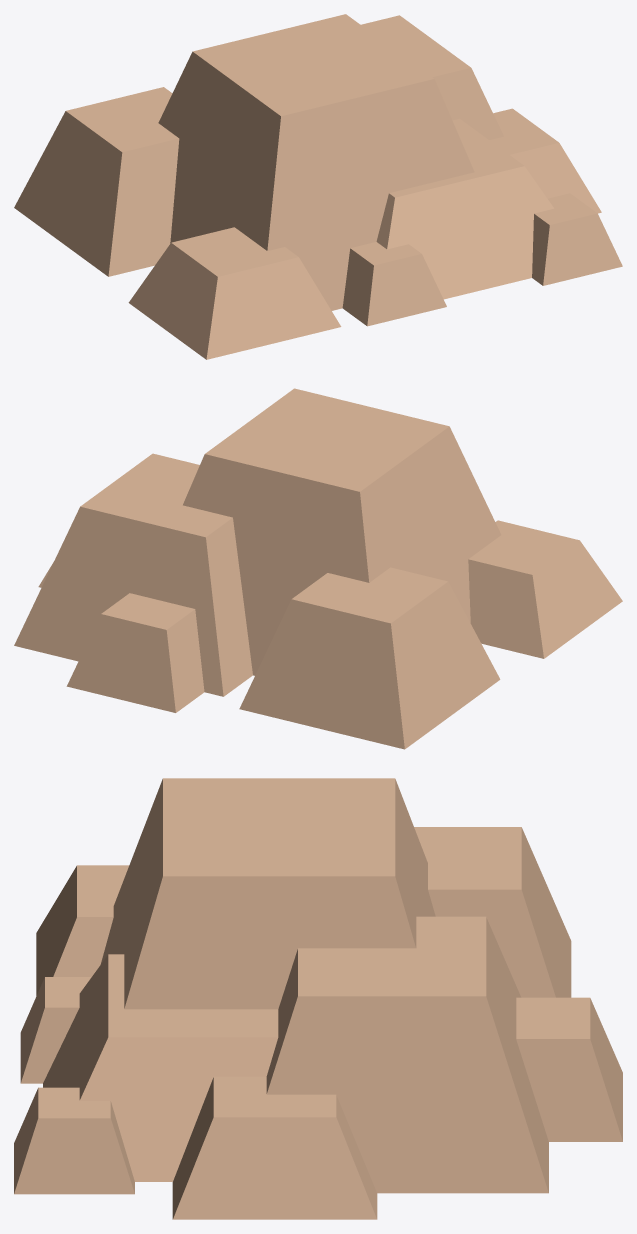
Rendered from rocks.glb.
3 views of the same model, one above another, from view 1: azimuth 30°, elevation 25°; view 2: azimuth 150°, elevation 25°; view 3: azimuth 270°, elevation 25° (orthographic). The views are drawn at different scales.
Parts seen in each view (by area): view 1: rocks; view 2: rocks; view 3: rocks.
Part boxes in pixels (x1,y1,x2,y2): rocks: (14,14,622,359); rocks: (14,388,622,749); rocks: (14,778,622,1219).
Size of the model in its own units: 8.93 by 3.4 by 8.03.
